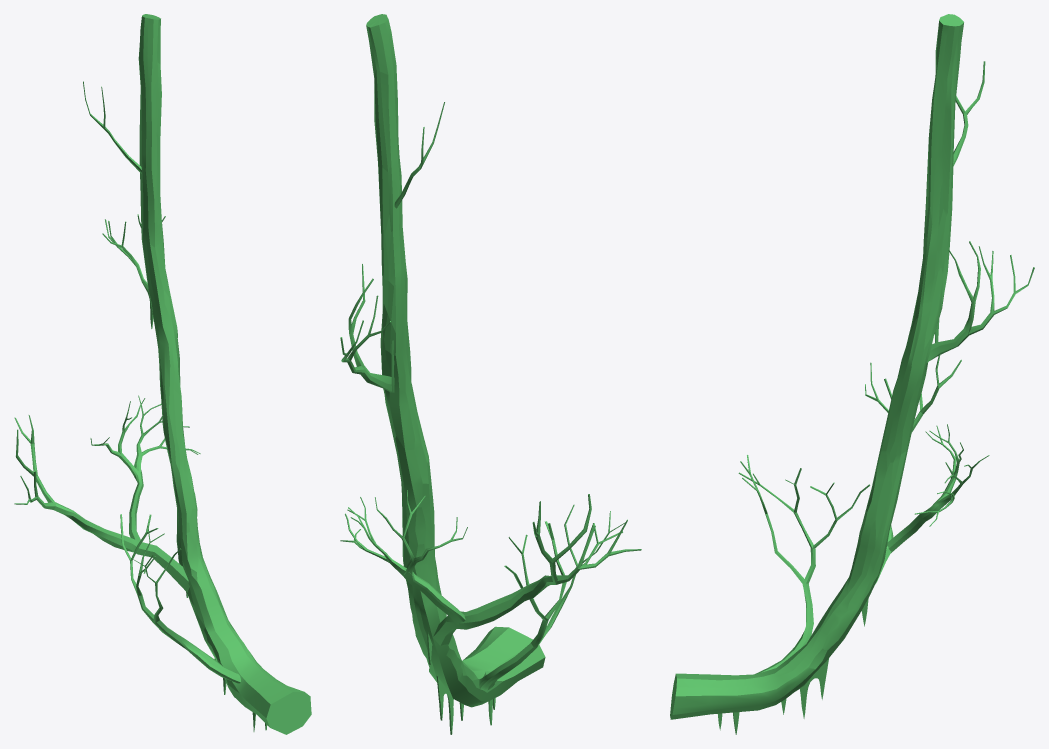
Rendered from jungle_trunk_A.fbx.
3 renders of one model, left to right at view 1: azimuth 30°, elevation 25°; view 2: azimuth 150°, elevation 25°; view 3: azimuth 270°, elevation 25°, orthographic. The views are drawn at different scales.
Visible parts, largest first — view 1: jungle_trunk_A, jungle_trunk_A_branch_A, jungle_trunk_A_branch_E, jungle_trunk_A_branch_B, jungle_trunk_A_branch_C; view 2: jungle_trunk_A, jungle_trunk_A_branch_A, jungle_trunk_A_branch_E, jungle_trunk_A_branch_B, jungle_trunk_A_branch_C; view 3: jungle_trunk_A, jungle_trunk_A_branch_E, jungle_trunk_A_branch_C, jungle_trunk_A_branch_B, jungle_trunk_A_branch_A.
Part boxes in pixels (<box>): jungle_trunk_A: <box>138,14,311,734</box>; jungle_trunk_A_branch_A: <box>14,415,189,592</box>; jungle_trunk_A_branch_E: <box>120,514,240,683</box>; jungle_trunk_A_branch_B: <box>90,395,200,541</box>; jungle_trunk_A_branch_C: <box>102,214,165,298</box>; jungle_trunk_A: <box>366,14,545,707</box>; jungle_trunk_A_branch_A: <box>433,494,641,645</box>; jungle_trunk_A_branch_E: <box>479,504,625,690</box>; jungle_trunk_A_branch_B: <box>340,490,467,624</box>; jungle_trunk_A_branch_C: <box>340,264,394,392</box>; jungle_trunk_A: <box>670,14,963,719</box>; jungle_trunk_A_branch_E: <box>738,455,870,674</box>; jungle_trunk_A_branch_C: <box>927,241,1034,362</box>; jungle_trunk_A_branch_B: <box>887,424,989,553</box>; jungle_trunk_A_branch_A: <box>865,355,961,584</box>.
Bounding box in the file's own units: 408 × 1171 × 543.
